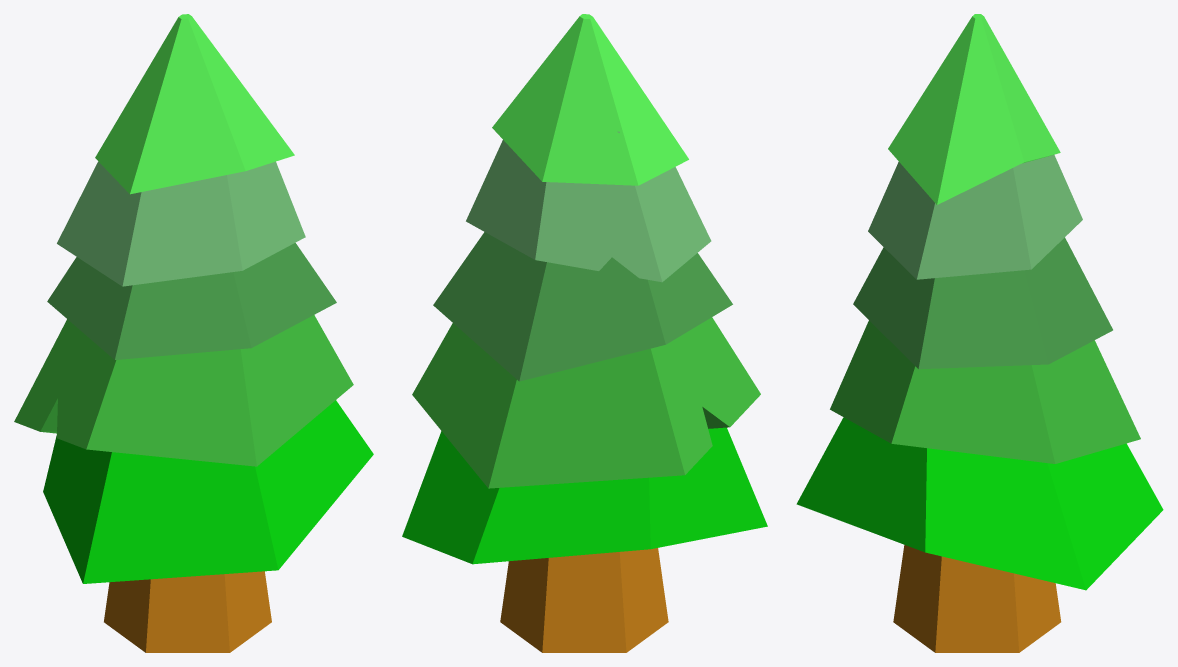
Rendered from Tree_Two_b_1.glb.
3 views of the same model, side by side, from view 1: azimuth 30°, elevation 25°; view 2: azimuth 150°, elevation 25°; view 3: azimuth 270°, elevation 25° (orthographic).
Parts seen in each view (by area): view 1: Cylinder.001, Cylinder.002, Cylinder.004, Cylinder.003, Cylinder.005, Cylinder; view 2: Cylinder.002, Cylinder.001, Cylinder.003, Cylinder.005, Cylinder.004, Cylinder; view 3: Cylinder.001, Cylinder.002, Cylinder.003, Cylinder.004, Cylinder.005, Cylinder.
Part boxes in pixels (x1,y1,x2,y2): Cylinder.001: (43,400,373,583); Cylinder.002: (14,315,353,466); Cylinder.004: (57,161,305,286); Cylinder.003: (47,243,336,359); Cylinder.005: (95,14,294,194); Cylinder: (104,571,271,652); Cylinder.002: (412,317,760,488); Cylinder.001: (402,427,767,564); Cylinder.003: (433,232,732,381); Cylinder.005: (492,14,688,185); Cylinder.004: (466,131,711,282); Cylinder: (500,548,668,652); Cylinder.001: (796,417,1163,590); Cylinder.002: (830,320,1140,463); Cylinder.003: (853,237,1112,369); Cylinder.004: (868,155,1082,279); Cylinder.005: (888,14,1060,204); Cylinder: (893,545,1061,652).
Bounding box in the file's own units: 4.17 × 7.95 × 4.37.
